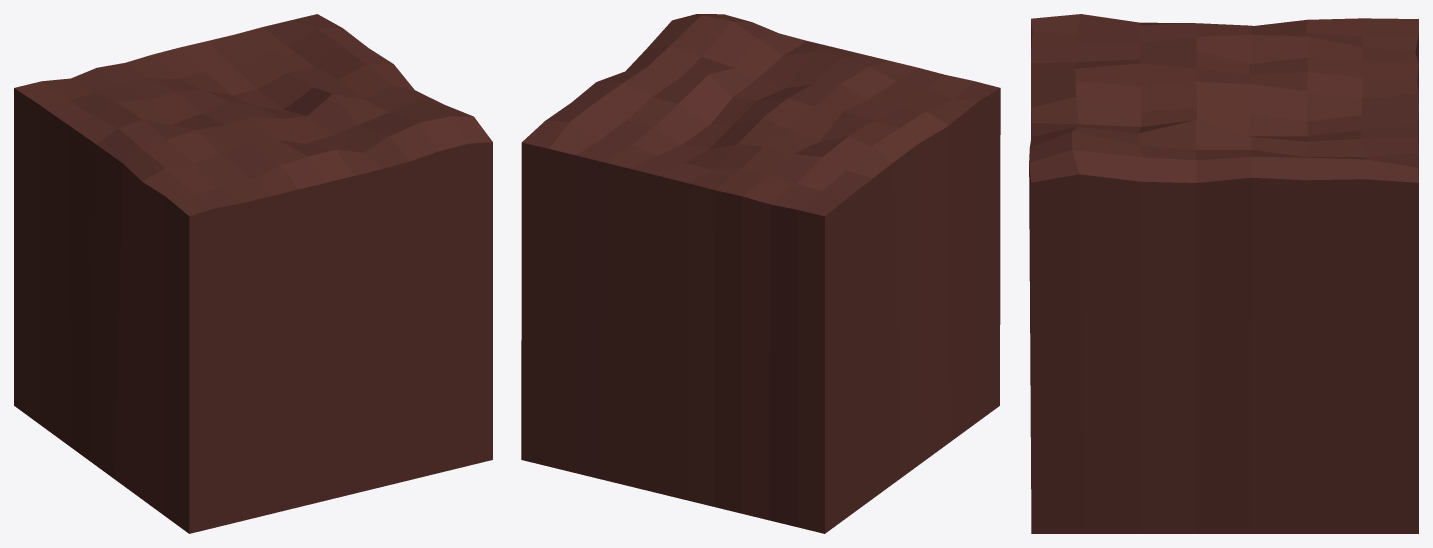
3 renders of one model, left to right at view 1: azimuth 30°, elevation 25°; view 2: azimuth 150°, elevation 25°; view 3: azimuth 270°, elevation 25°, orthographic. The views are drawn at different scales.
Visible parts, largest first — view 1: Cube.001; view 2: Cube.001; view 3: Cube.001.
Boxes of the visible parts, x1=… form: Cube.001: x1=14, y1=14, x2=492, y2=533; Cube.001: x1=521, y1=14, x2=1000, y2=533; Cube.001: x1=1029, y1=14, x2=1418, y2=533.
Bounding box in the file's own units: 2.03 × 2.12 × 2.01.
